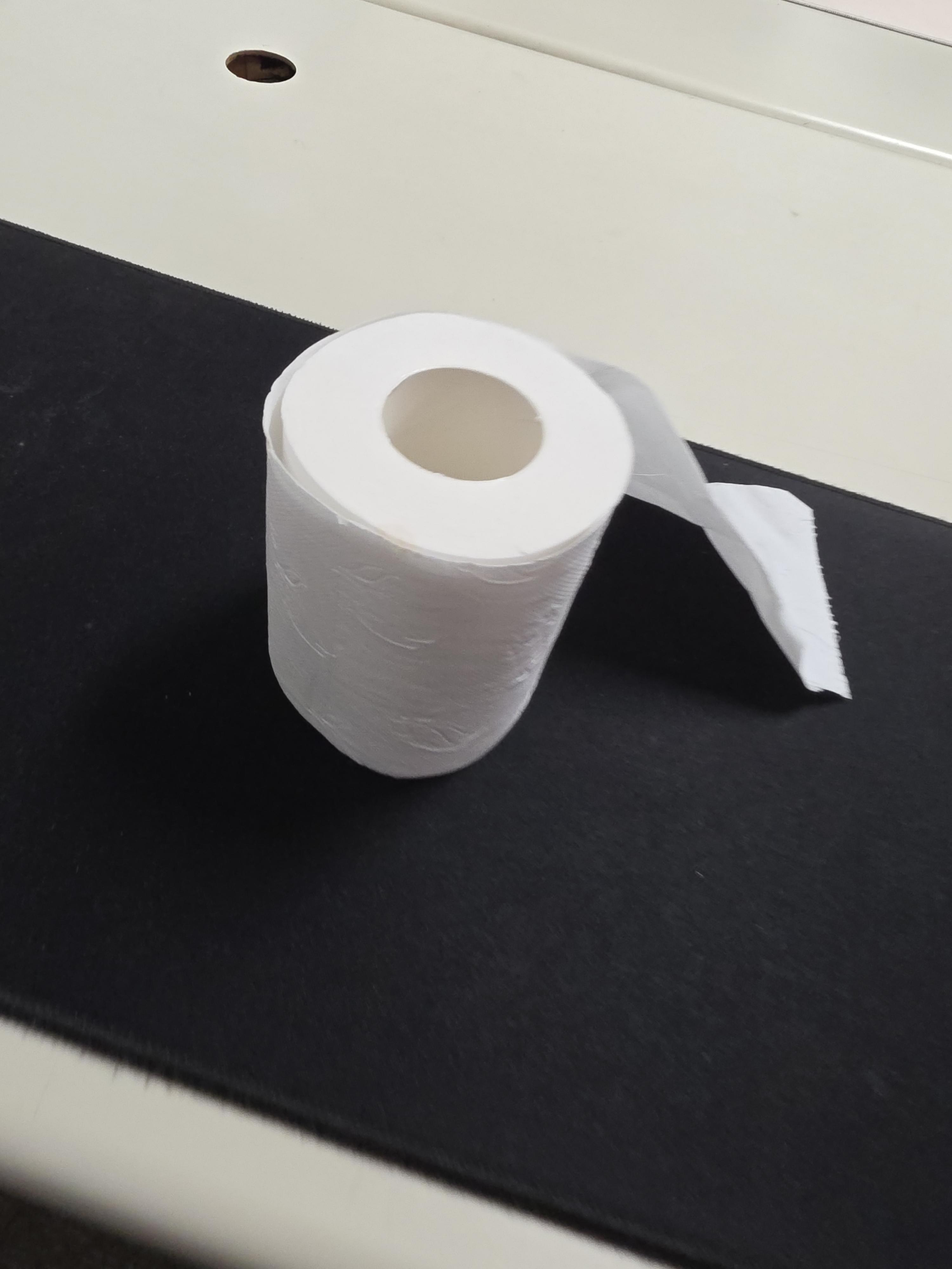tissue: (260, 310, 853, 779)
